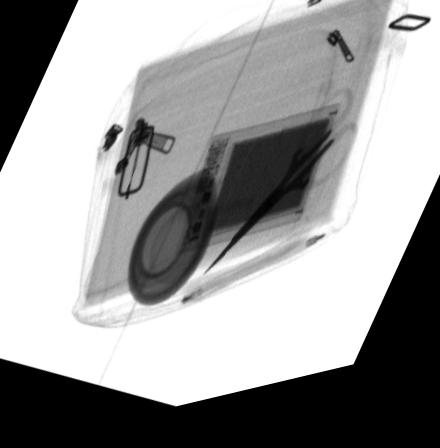Powerbank: (170, 120, 338, 267)
Scissors: (195, 106, 356, 295)
